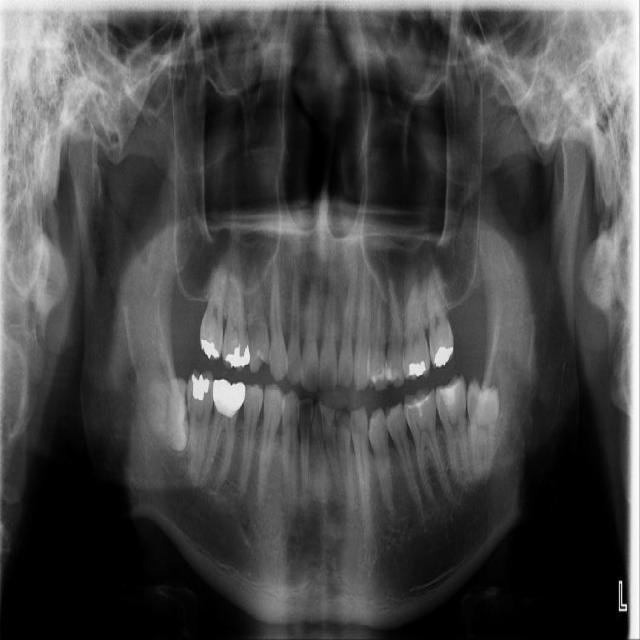52: (419, 327, 467, 373), (397, 347, 439, 386), (197, 312, 227, 365), (401, 385, 438, 427), (434, 372, 469, 416), (184, 366, 218, 411), (212, 377, 247, 418), (223, 334, 250, 372), (364, 354, 390, 392), (380, 357, 409, 390)
73: (584, 576, 588, 594)
BioHorizons Implant: (422, 262, 456, 371)
Biomet 3i Implant: (456, 375, 503, 485)
Blue Sky Bio Implant: (432, 370, 477, 493)
Caries: (198, 264, 229, 364)
Implant: (181, 366, 217, 487)
Keystone Dental Implant: (146, 378, 190, 453)
